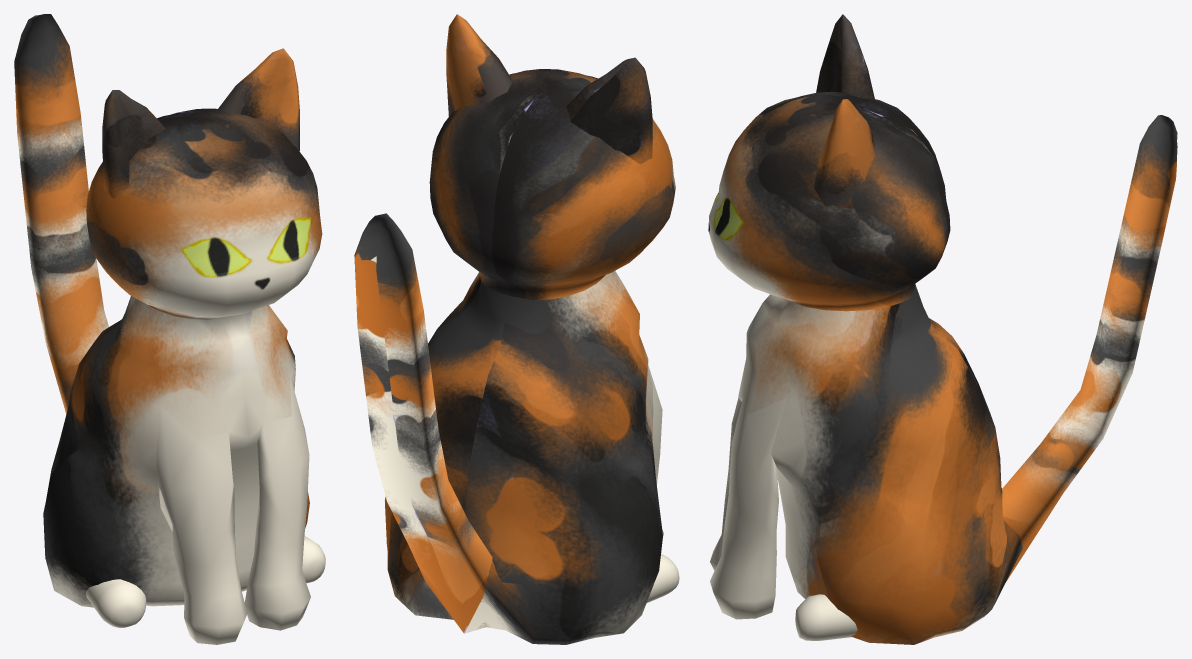
Rendered from car cat.fbx.
3 views of the same model, side by side, from view 1: azimuth 30°, elevation 25°; view 2: azimuth 150°, elevation 25°; view 3: azimuth 270°, elevation 25° (orthographic). The views are drawn at different scales.
Parts seen in each view (by area): view 1: demon_kitty; view 2: demon_kitty; view 3: demon_kitty.
Part boxes in pixels (x1,y1,x2,y2): demon_kitty: (14,14,325,644); demon_kitty: (354,14,679,644); demon_kitty: (708,14,1177,644).
Bounding box in the file's own units: 2.59 × 5.41 × 4.27.
